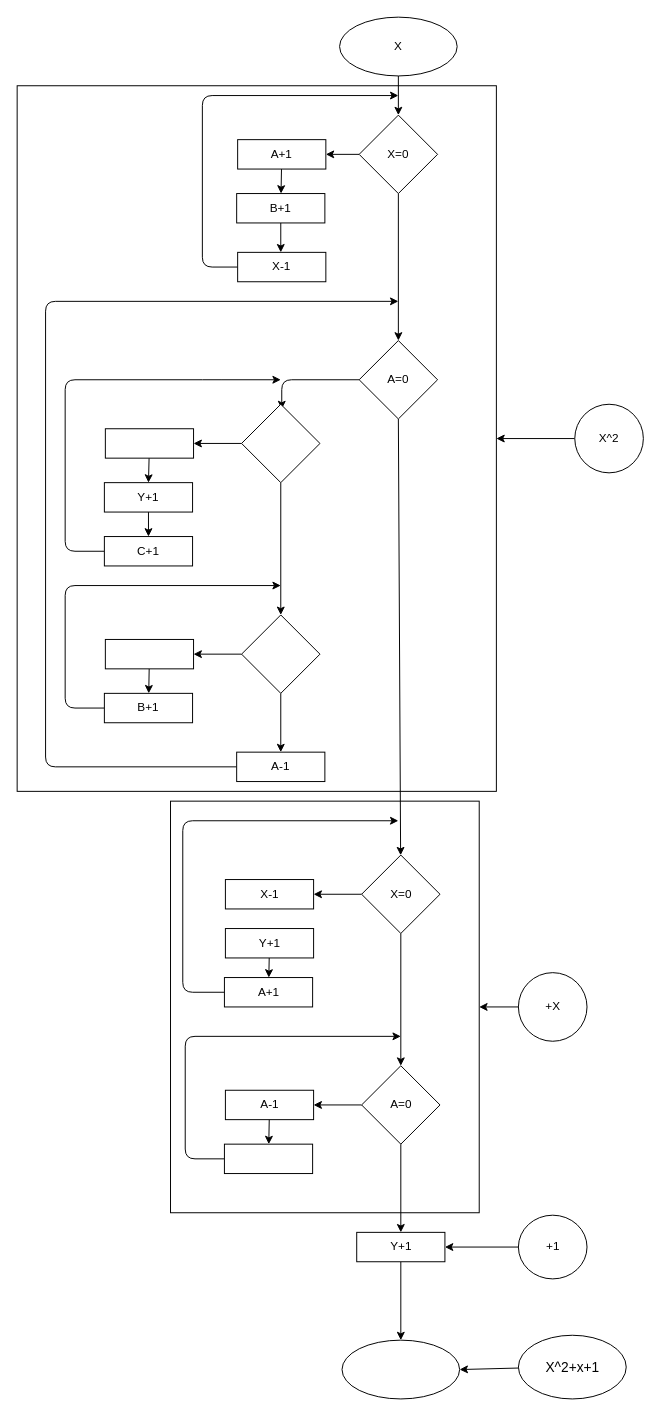
The diagram is 661 pixels wide and 1416 high, and some of its shapes have lost their labels. Each missing label, with the box of its shape:
B-1: (104, 428, 194, 458)
B=0: (241, 403, 320, 483)
C-1: (104, 638, 194, 669)
C=0: (241, 614, 320, 693)
FIM: (341, 1339, 460, 1399)
X+1: (223, 1143, 313, 1174)
